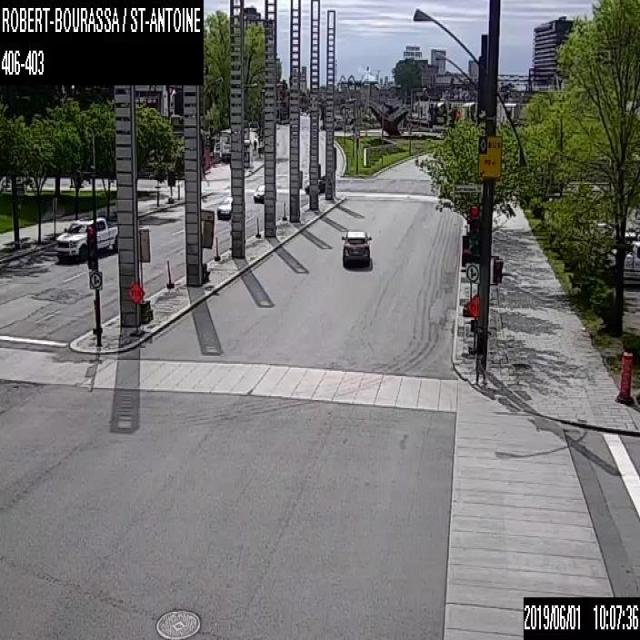construction: (126, 279, 144, 336), (465, 292, 479, 358), (616, 350, 632, 402)
pedestrian: (252, 136, 256, 149)
vehicle: (56, 216, 117, 260), (341, 226, 371, 268), (253, 178, 276, 202), (216, 195, 232, 218), (304, 175, 324, 192)
